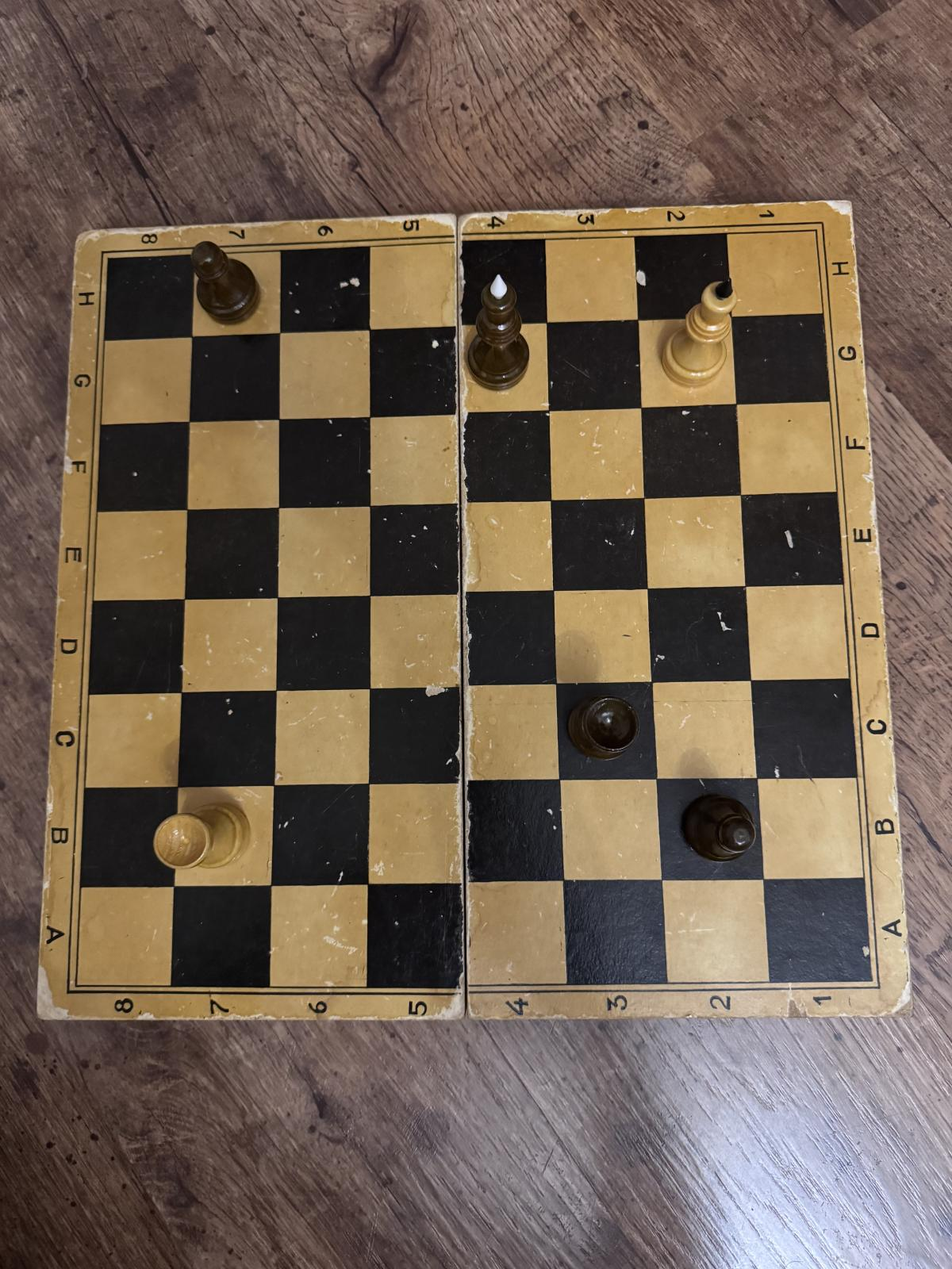Chess-Board: (76, 231, 873, 987)
